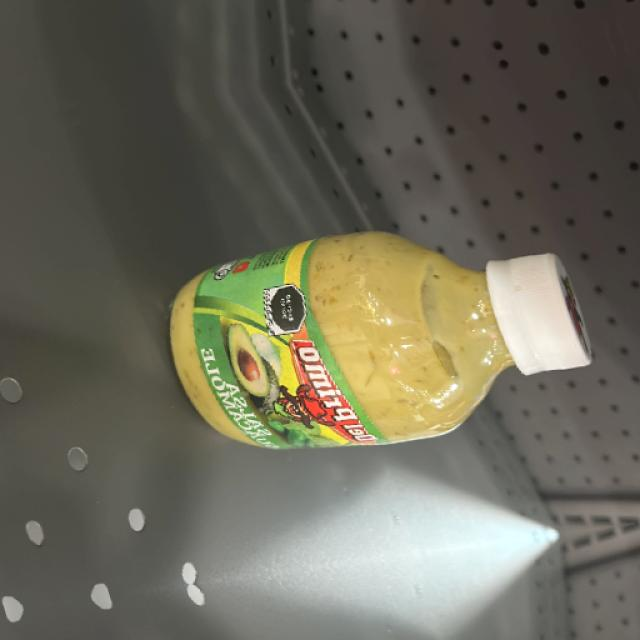delPrimoSalsa: (175, 241, 583, 435)
